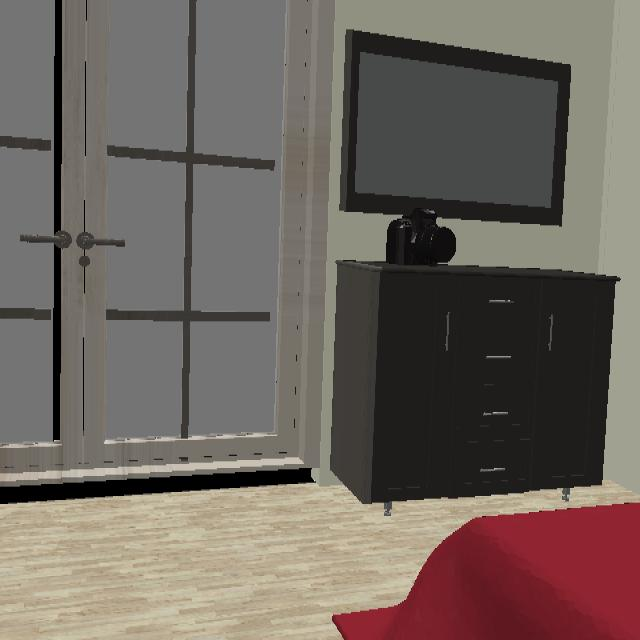bed: (332, 504, 640, 640)
cabinet: (329, 261, 619, 509)
